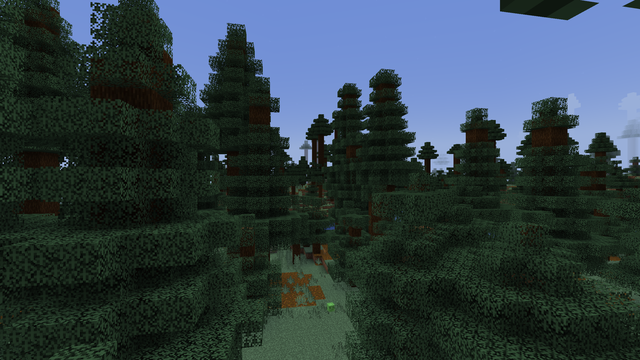slimes: (326, 302, 333, 312)
